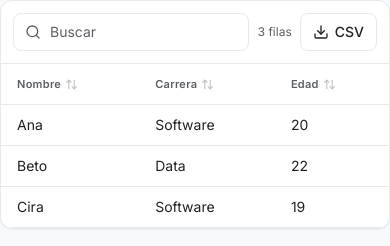
DataTable › la búsqueda global filtra las filas
Type "Ana" into the field with placeholder "Buscar" at (131, 32), box 13,13 -> 249,51
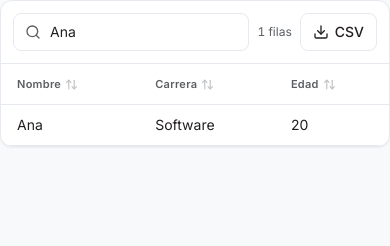
Expected: the text "Ana" is shown, 1,104 -> 139,146
Expected: the text "Beto" is gone
Expected: the text "1 filas" is shown, 257,24 -> 292,40
